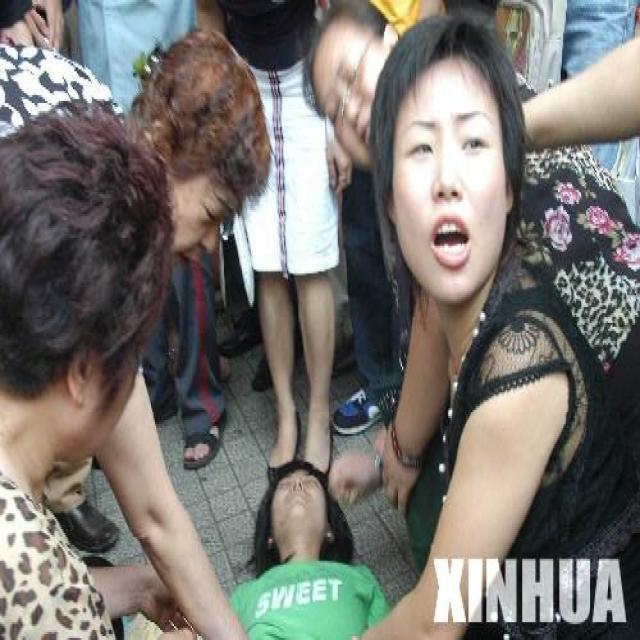10-: (0, 0, 639, 638)
down: (220, 434, 411, 638)
